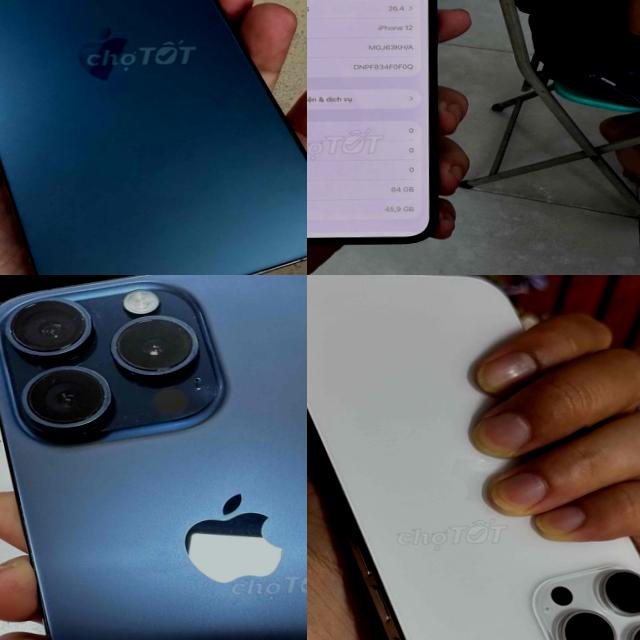scratch: (0, 290, 216, 432), (51, 5, 158, 101), (237, 636, 254, 640)
